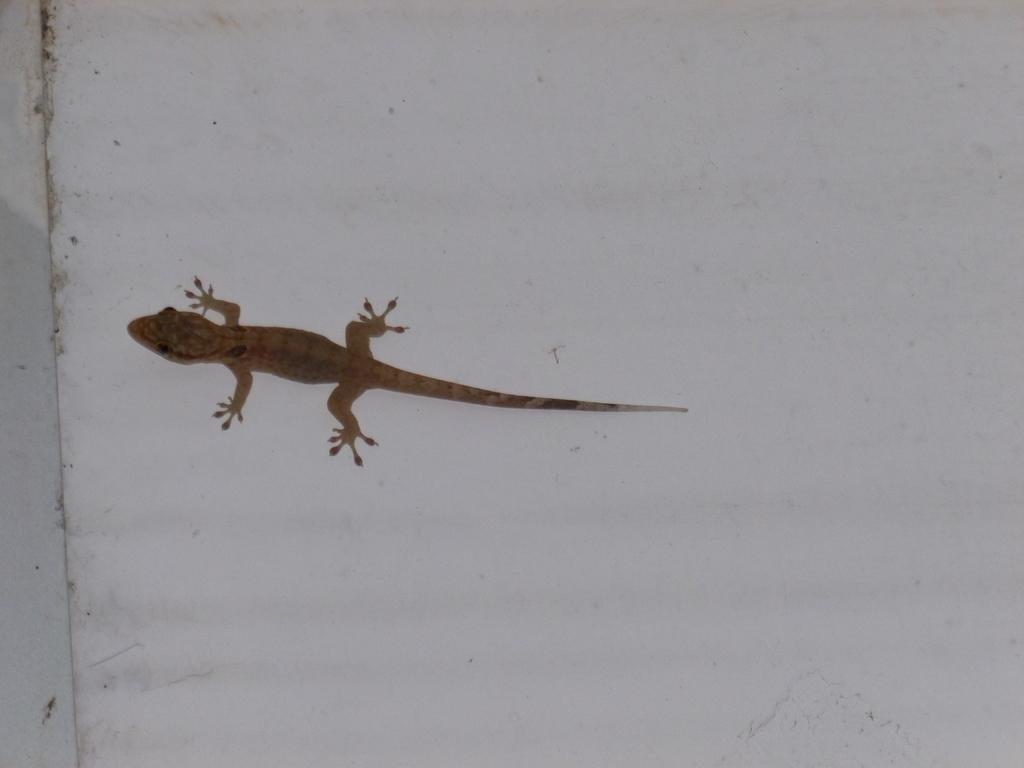lizard: (123, 266, 695, 472)
